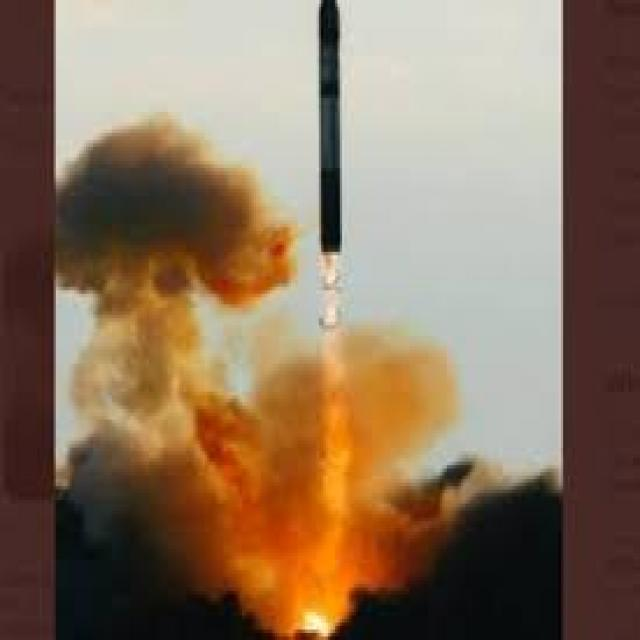Missile: (310, 2, 355, 269)
